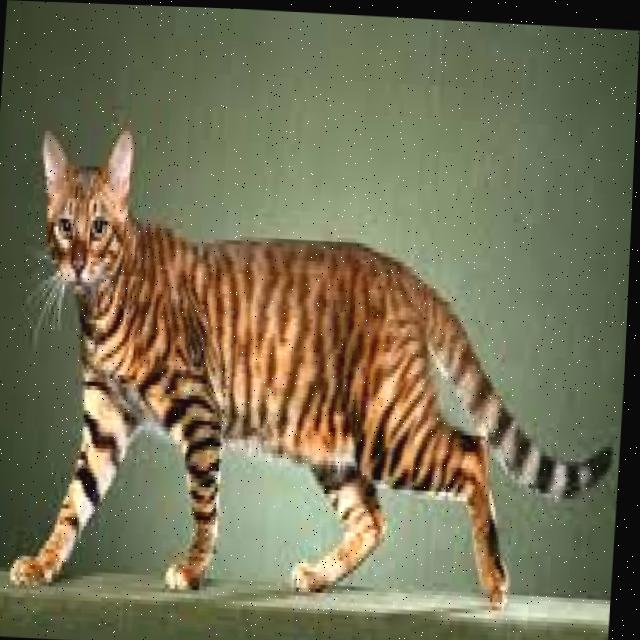Toyger: (9, 113, 634, 622)
